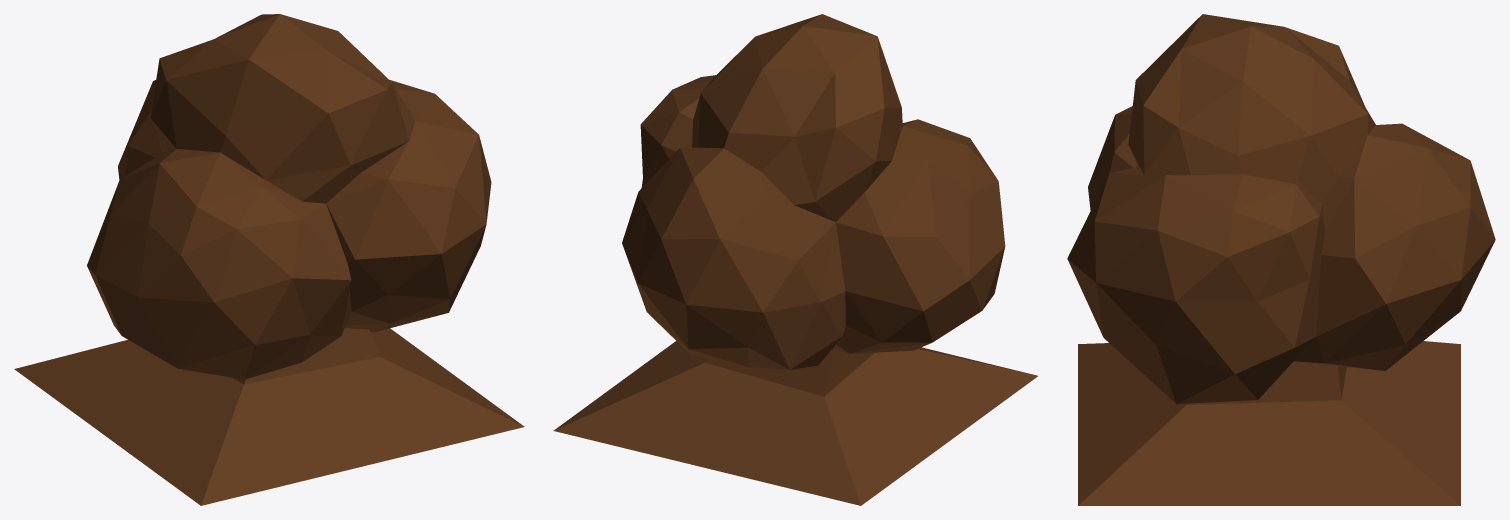
File: Buisson_C.FBX
3 renders of one model, left to right at view 1: azimuth 30°, elevation 25°; view 2: azimuth 150°, elevation 25°; view 3: azimuth 270°, elevation 25°, orthographic. The views are drawn at different scales.
Parts seen in each view (by area): view 1: Buisson_C; view 2: Buisson_C; view 3: Buisson_C.
Boxes of the visible parts, box(x1,y1,x2,y2) form: Buisson_C: box(14, 14, 524, 505); Buisson_C: box(553, 14, 1037, 505); Buisson_C: box(1067, 14, 1495, 505).
Bounding box in the file's own units: 1.1 × 1.15 × 1.12.
